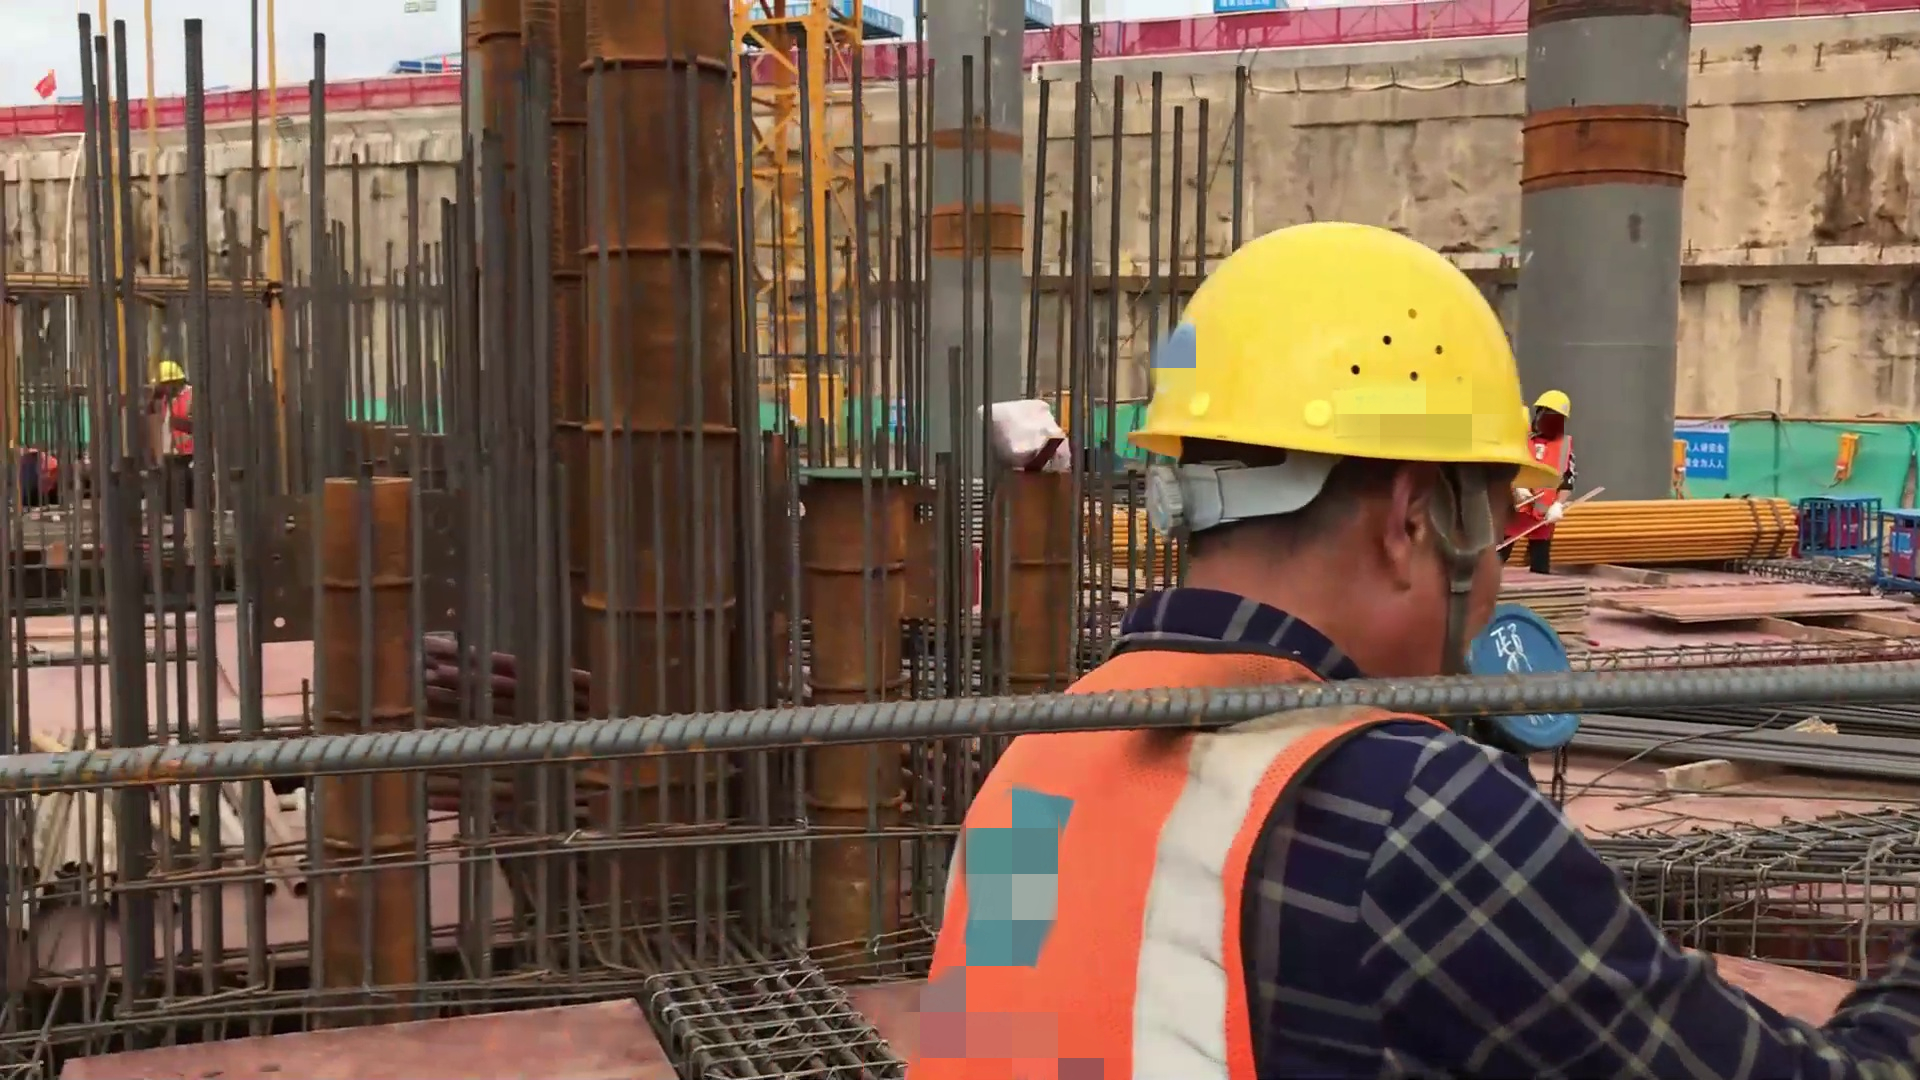board: (1503, 568, 1588, 644)
ebox: (1674, 441, 1687, 498)
helmet: (1123, 221, 1571, 492), (1532, 388, 1572, 420), (150, 361, 185, 385)
person: (904, 215, 1920, 1079), (1492, 386, 1577, 578), (144, 360, 196, 520), (8, 438, 64, 506)
slogan: (1687, 421, 1729, 479)
vest: (915, 646, 1444, 1080), (1507, 435, 1571, 539), (146, 386, 193, 458), (21, 450, 56, 487)
